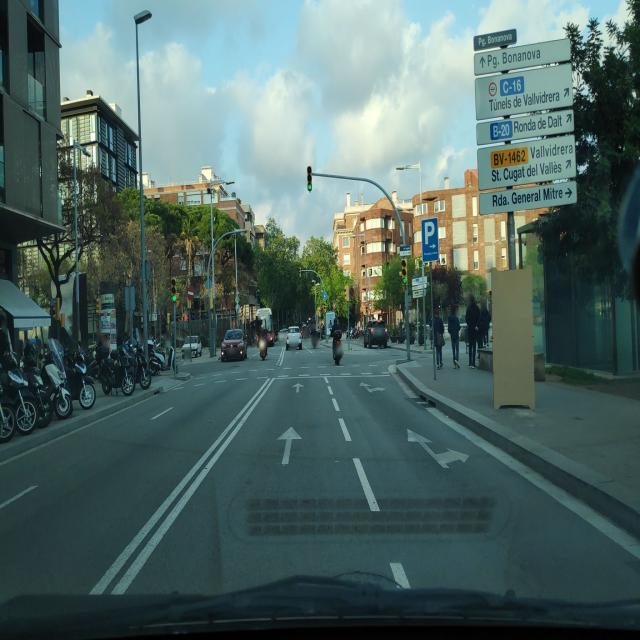forb_stopping: (349, 287, 354, 297)
